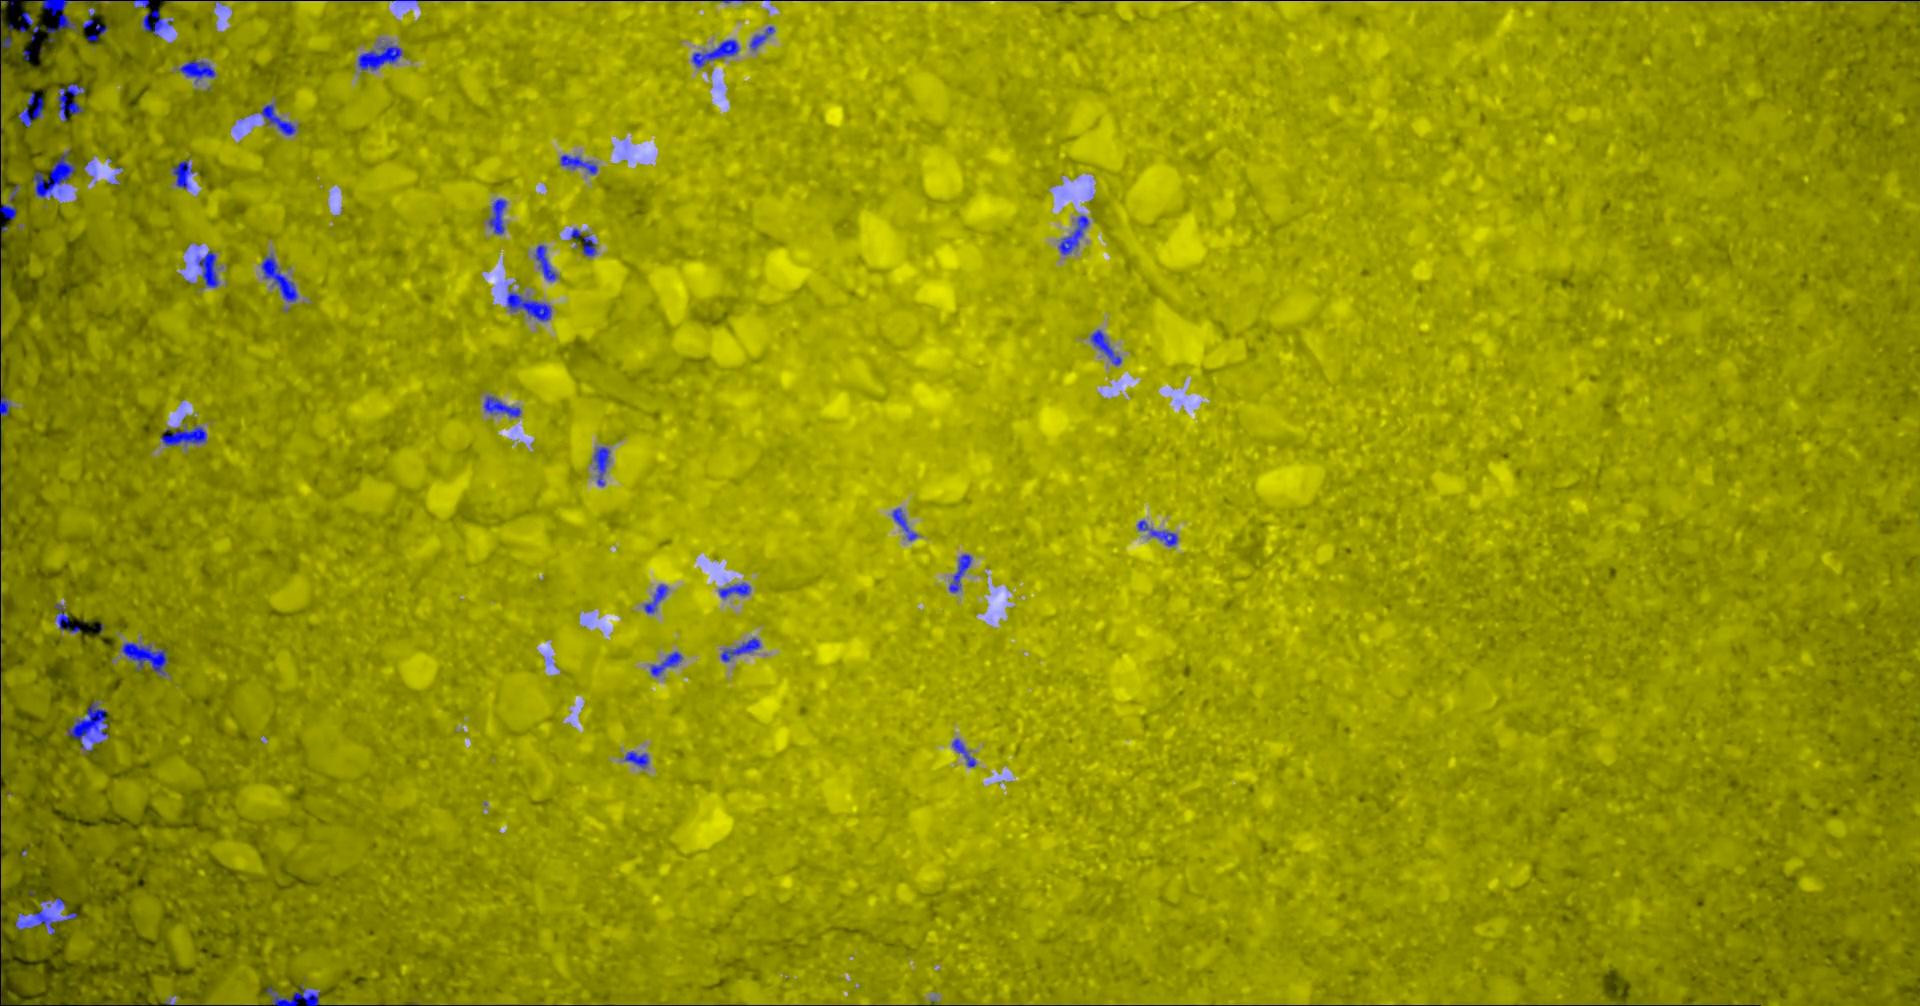ant: (25, 0, 75, 42), (32, 150, 75, 197), (67, 701, 108, 748), (260, 253, 297, 301), (121, 641, 168, 674), (14, 909, 76, 934), (505, 290, 551, 321), (691, 39, 738, 67), (1058, 215, 1088, 254), (357, 43, 401, 70), (1090, 329, 1121, 365), (260, 103, 295, 135), (1137, 520, 1177, 546), (265, 984, 319, 1005), (57, 83, 84, 121), (720, 636, 759, 661), (17, 91, 43, 126), (160, 426, 206, 445), (949, 554, 971, 592), (483, 395, 521, 417), (196, 251, 218, 287), (891, 508, 917, 540), (142, 9, 171, 36), (179, 60, 215, 81), (535, 244, 556, 279), (560, 154, 597, 174), (81, 11, 107, 41), (55, 603, 80, 633), (650, 652, 681, 676), (570, 227, 596, 255), (643, 584, 667, 614), (951, 738, 975, 766), (593, 446, 610, 485), (0, 389, 10, 451), (488, 198, 505, 232), (171, 159, 192, 188), (749, 25, 773, 50), (717, 582, 750, 598), (22, 11, 38, 39), (623, 751, 648, 767), (0, 205, 17, 218)
